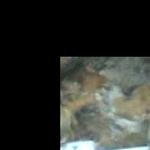alive: (62, 57, 149, 148)
